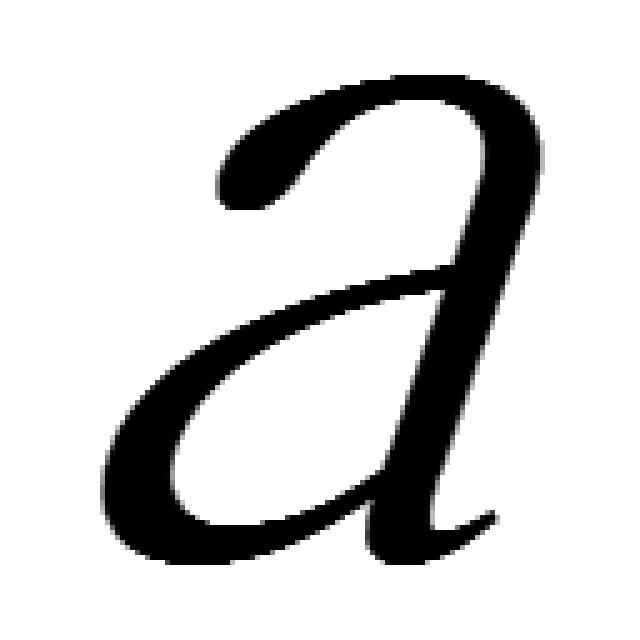A: (90, 71, 544, 568)
